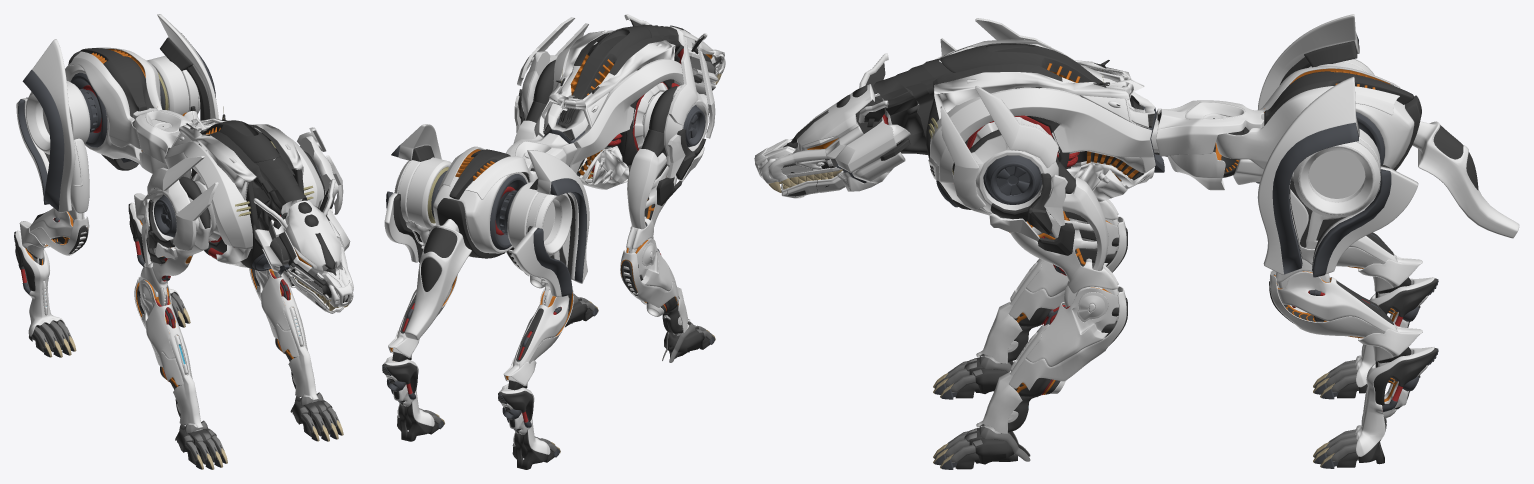
Rendered from Wolf_Rework.gltf.
3 views of the same model, side by side, from view 1: azimuth 30°, elevation 25°; view 2: azimuth 150°, elevation 25°; view 3: azimuth 270°, elevation 25° (orthographic). The views are drawn at different scales.
Visible parts, largest first — view 1: Cylinder.003, Chest.024, Chest.040, rear_leg_upper_L.007, front_arm_upper.L.002, HeadCockpit.002, HeadCockpit, front_arm_upper.L.015, Chest.011, Hips.015, front_arm_upper.L.036, rear_arm _lower_L.016 (+20 smaller); view 2: Cylinder.003, Chest.024, rear_leg_upper_L.007, Chest.040, front_arm_upper.L.002, Hips.024, front_arm_upper.L.015, Chest.011, rear_arm _lower_L.001, rear_arm _lower_L.016, Chest.031, front_arm_upper.L.017 (+19 smaller); view 3: rear_leg_upper_L.007, Chest.024, front_arm_upper.L.017, Chest.040, front_arm_upper.L.005, Hips.015, Hips.024, front_arm_upper.L.020, Chest.011, rear_arm _lower_L.001, Cylinder.003, HeadCockpit.002 (+23 smaller).
Part boxes in pixels (x1=…): Cylinder.003: x1=16, y1=39, x2=90, y2=223; Chest.024: x1=65, y1=47, x2=162, y2=170; Chest.040: x1=164, y1=127, x2=324, y2=249; rear_leg_upper_L.007: x1=146, y1=14, x2=218, y2=131; front_arm_upper.L.002: x1=145, y1=156, x2=218, y2=264; HeadCockpit.002: x1=252, y1=201, x2=353, y2=310; HeadCockpit: x1=285, y1=200, x2=342, y2=270; front_arm_upper.L.015: x1=19, y1=208, x2=89, y2=265; Chest.011: x1=179, y1=118, x2=303, y2=200; Hips.015: x1=133, y1=108, x2=194, y2=173; front_arm_upper.L.036: x1=137, y1=280, x2=187, y2=374; rear_arm _lower_L.016: x1=14, y1=230, x2=65, y2=341; Cylinder.003: x1=507, y1=150, x2=589, y2=310; Chest.024: x1=433, y1=146, x2=537, y2=258; rear_leg_upper_L.007: x1=384, y1=124, x2=451, y2=262; Chest.040: x1=534, y1=42, x2=683, y2=173; front_arm_upper.L.002: x1=656, y1=44, x2=715, y2=205; Hips.024: x1=404, y1=219, x2=471, y2=340; front_arm_upper.L.015: x1=503, y1=285, x2=573, y2=390; Chest.011: x1=549, y1=30, x2=675, y2=109; rear_arm _lower_L.001: x1=382, y1=355, x2=434, y2=441; rear_arm _lower_L.016: x1=498, y1=384, x2=550, y2=469; Chest.031: x1=558, y1=25, x2=651, y2=128; front_arm_upper.L.017: x1=514, y1=17, x2=588, y2=132; rear_leg_upper_L.007: x1=1257, y1=77, x2=1418, y2=292; Chest.024: x1=1216, y1=66, x2=1421, y2=184; front_arm_upper.L.017: x1=940, y1=85, x2=1074, y2=255; Chest.040: x1=930, y1=87, x2=1155, y2=183; front_arm_upper.L.005: x1=1269, y1=270, x2=1422, y2=367; Hips.015: x1=1151, y1=100, x2=1264, y2=190; Hips.024: x1=1412, y1=121, x2=1519, y2=238; front_arm_upper.L.020: x1=1010, y1=286, x2=1119, y2=371; Chest.011: x1=934, y1=39, x2=1133, y2=119; rear_arm _lower_L.001: x1=1355, y1=346, x2=1438, y2=464; Cylinder.003: x1=1258, y1=14, x2=1374, y2=110; HeadCockpit.002: x1=754, y1=84, x2=910, y2=192.
Bounding box in the file's own units: 10.81 × 18.09 × 32.97.
